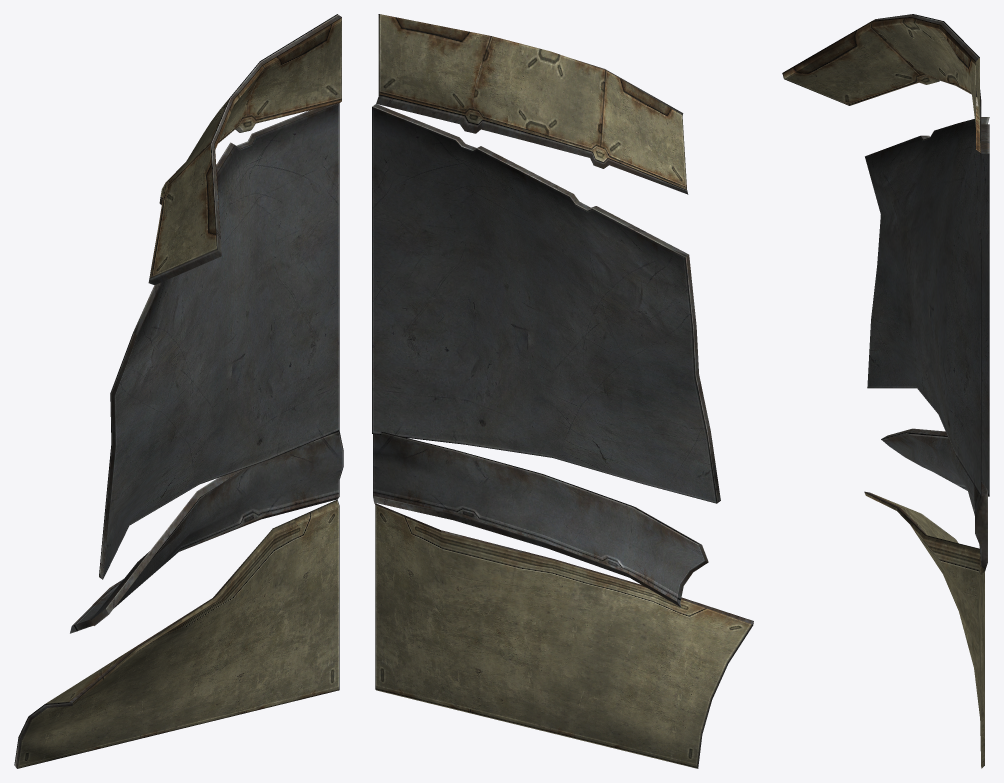
File: datasite_flat01_short_broken_right.dae
The picture shows the model from 3 angles, left to right: view 1: azimuth 30°, elevation 25°; view 2: azimuth 150°, elevation 25°; view 3: azimuth 270°, elevation 25°; orthographic projection. The views are drawn at different scales.
Visible parts, largest first — view 1: polySurface154; view 2: polySurface154; view 3: polySurface154.
Part boxes in pixels (<box>): polySurface154: <box>14,14,343,768</box>; polySurface154: <box>372,14,753,768</box>; polySurface154: <box>782,14,989,768</box>.
Size of the model in its own units: 2.01 by 4.01 by 1.06.
